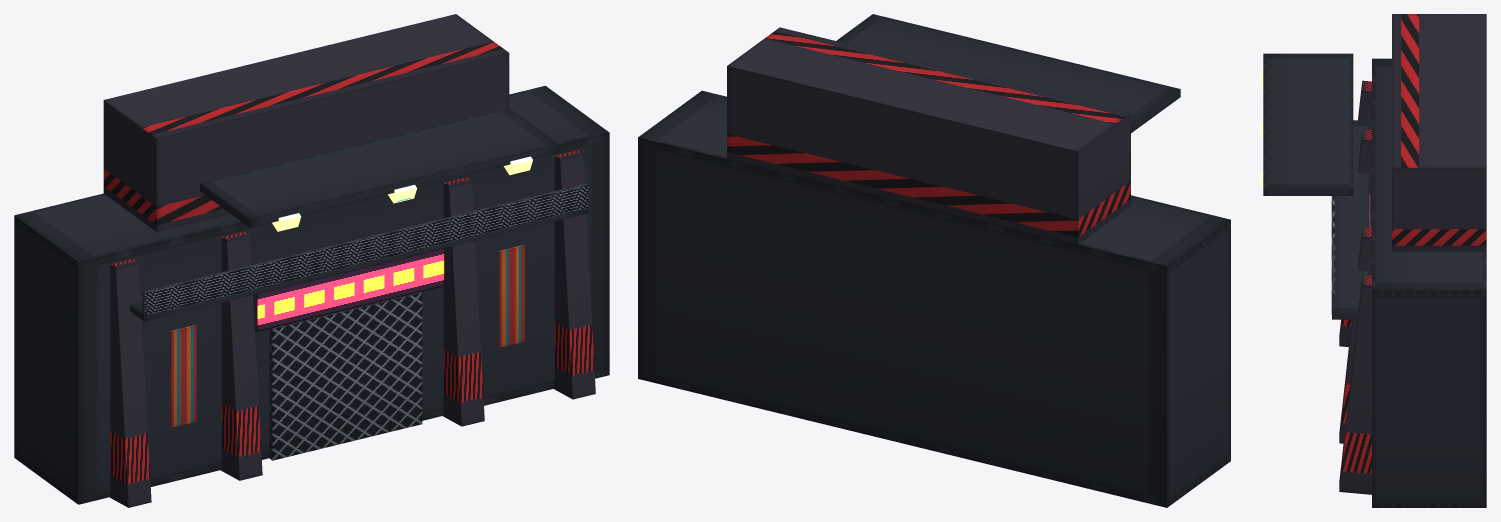
File: ashblock_courtyard_stronghold_arena.glb
3 renders of one model, left to right at view 1: azimuth 30°, elevation 25°; view 2: azimuth 150°, elevation 25°; view 3: azimuth 270°, elevation 25°, orthographic. The views are drawn at different scales.
Visible parts, largest first — view 1: ashblock_courtyard_stronghold_arena; view 2: ashblock_courtyard_stronghold_arena; view 3: ashblock_courtyard_stronghold_arena.
Boxes of the visible parts, box(x1,y1,x2,y2) form: ashblock_courtyard_stronghold_arena: box(14, 14, 609, 507); ashblock_courtyard_stronghold_arena: box(638, 14, 1230, 507); ashblock_courtyard_stronghold_arena: box(1259, 14, 1486, 507).
Bounding box in the file's own units: 22 × 13.35 × 9.11.
1 material, 1 textured.
